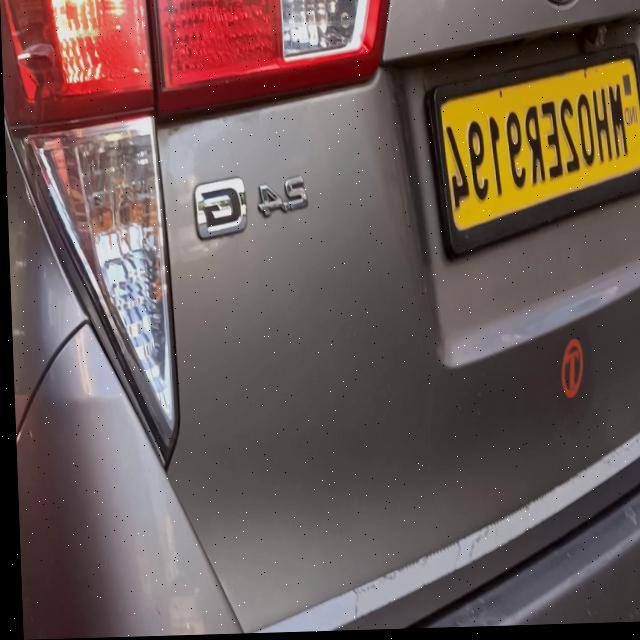plate: (422, 42, 640, 267)
